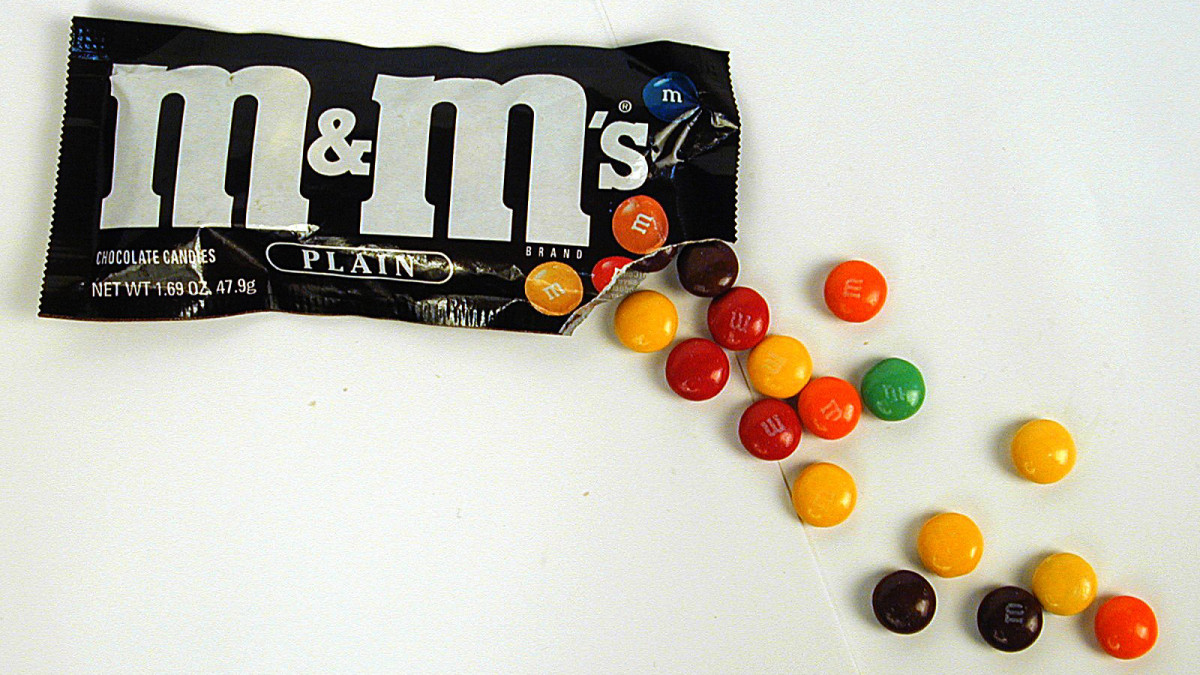mm: (974, 584, 1043, 653), (916, 511, 984, 577), (791, 462, 856, 528), (862, 356, 926, 422), (872, 568, 936, 634), (1011, 419, 1075, 484), (666, 337, 730, 401), (1095, 595, 1158, 660), (1032, 553, 1098, 615), (615, 290, 678, 354), (749, 334, 812, 398), (799, 376, 862, 440), (707, 286, 769, 351), (739, 398, 802, 461), (824, 260, 886, 321), (611, 194, 669, 253), (679, 241, 739, 298), (526, 261, 583, 315), (644, 72, 700, 119), (593, 257, 638, 294)
